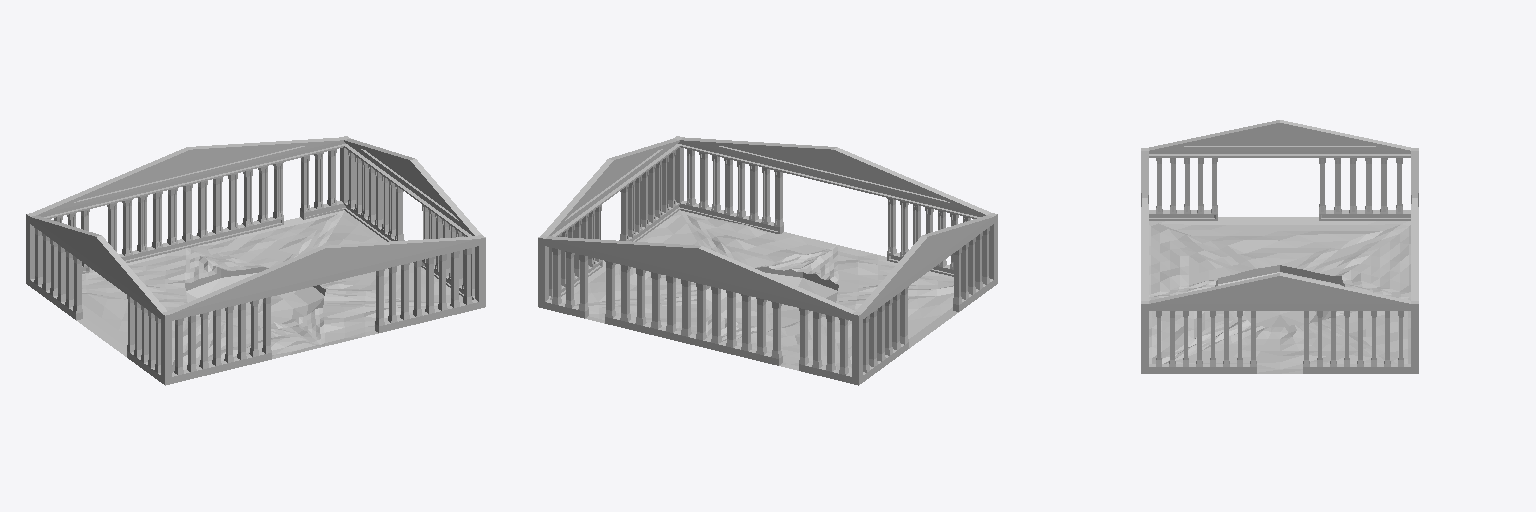
The model's file is RoomCenterDetailed.obj.
3 views of the same model, side by side, from view 1: azimuth 30°, elevation 25°; view 2: azimuth 150°, elevation 25°; view 3: azimuth 270°, elevation 25° (orthographic).
Parts seen in each view (by area): view 1: Cube.002_Cube.003; view 2: Cube.002_Cube.003; view 3: Cube.002_Cube.003.
Part boxes in pixels (left/top/right/bottom): Cube.002_Cube.003: left=26, top=136, right=485, bottom=385; Cube.002_Cube.003: left=538, top=136, right=997, bottom=385; Cube.002_Cube.003: left=1141, top=120, right=1418, bottom=373.
Bounding box in the file's own units: 48 × 16.65 × 36.